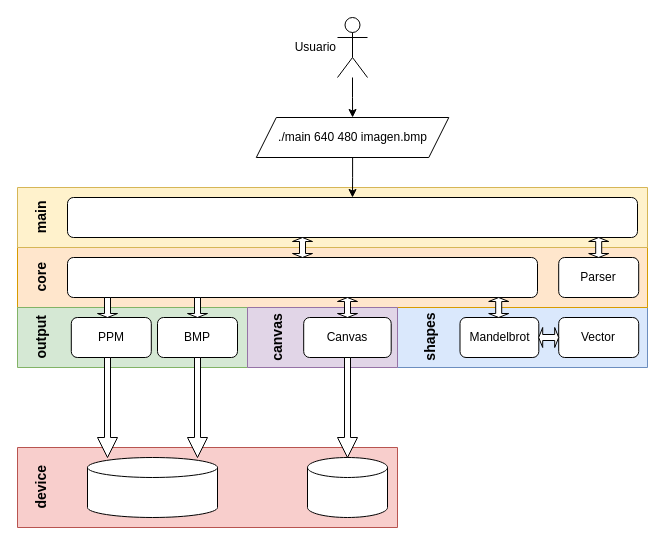
The diagram is 665 pixels wide and 545 high, and some of its shapes have lost their labels. Here are the shapes that lost their labels. From the top down, the centre of each, then its label:
At pixel 352 217: "Application".
At pixel 302 277: "Image".
At pixel 152 487: "Storage".
At pixel 347 487: "Heap".
